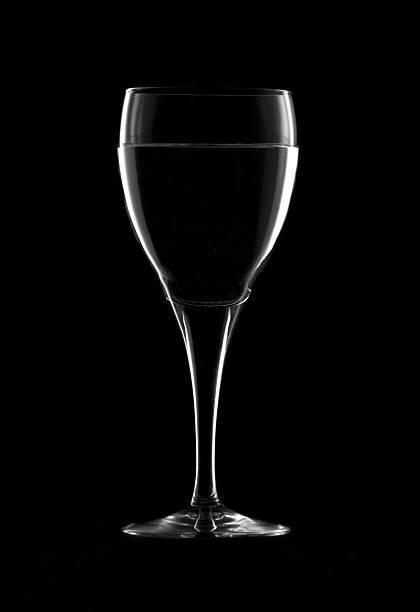glass-wine: (114, 83, 300, 542)
